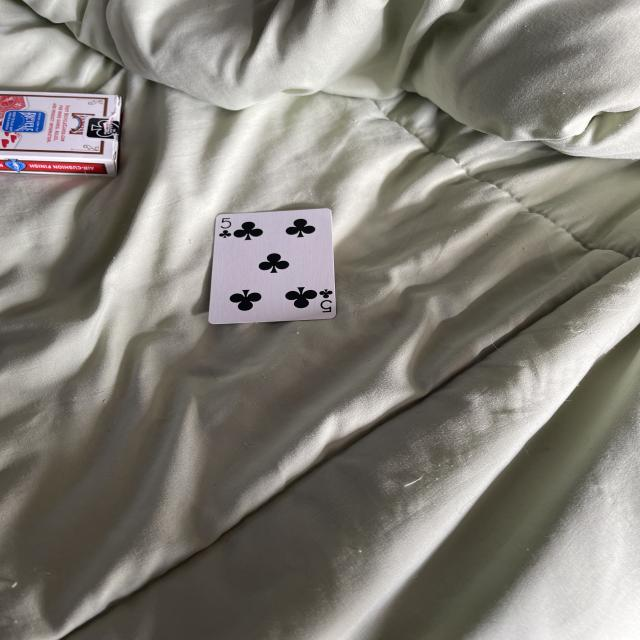5 of clubs: (176, 198, 356, 344)
